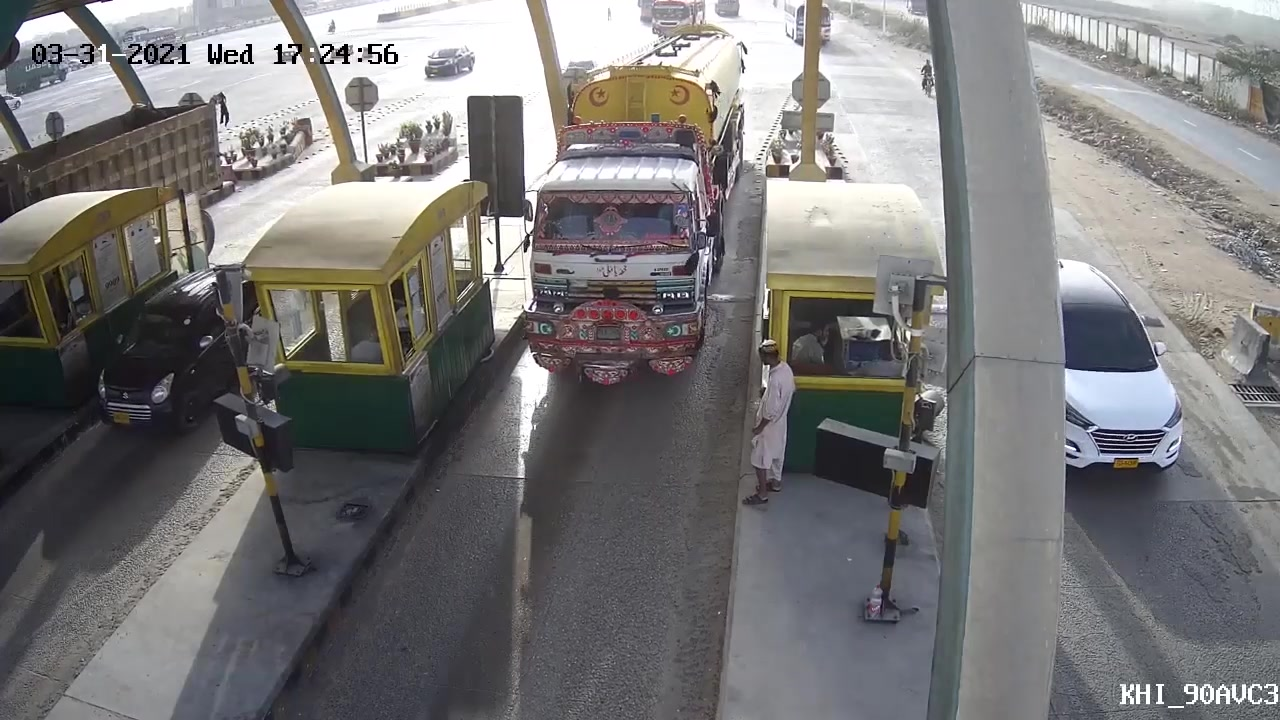F6: (504, 22, 763, 396)
